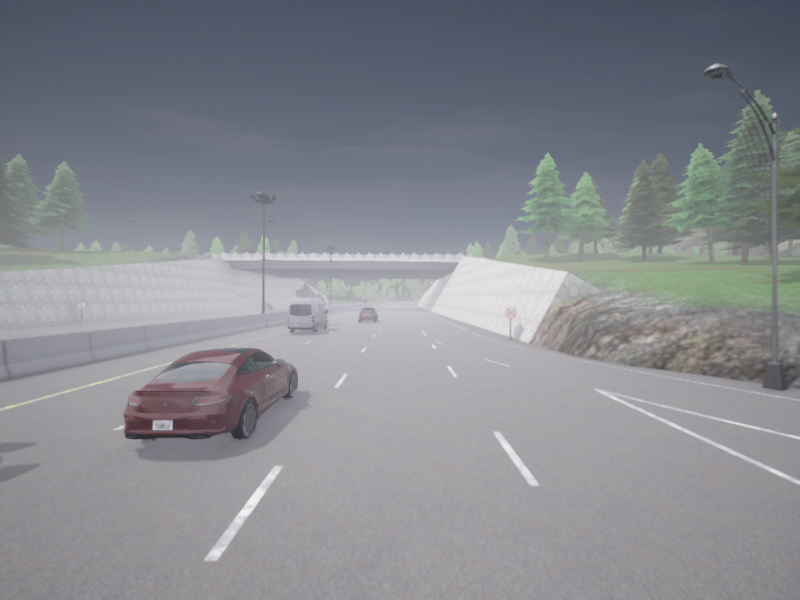vehicle: (123, 347, 296, 439), (287, 298, 327, 332), (359, 307, 377, 321)
